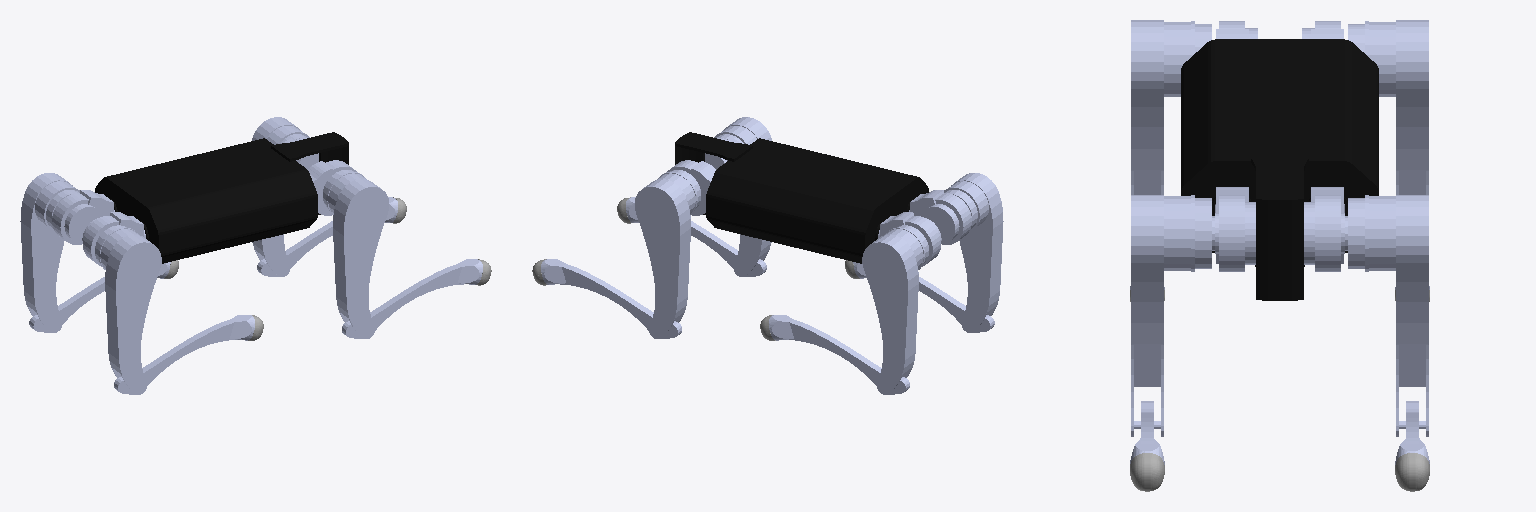
The robot description file, URDF, robot "dog":
<?xml version="1.0" encoding="utf-8"?>
<robot name="dog">
  <!-- ============ Materials ============ -->
  <material name="black"><color rgba="0.10196 0.10196 0.10196 1"/></material>
  <material name="silver"><color rgba="0.79216 0.81961 0.93333 1"/></material>
  <material name="gray"><color rgba="0.69804 0.69804 0.69804 1"/></material>
  <material name="white"><color rgba="1 1 1 1"/></material>

  <!-- ============ Base (主基座) ============ -->
  <link name="base">
    <inertial>
      <origin xyz="0.0063754 1.9125E-17 -5.2009E-18" rpy="0 0 0"/>
      <mass value="13.555"/>
      <inertia ixx="0.051785" ixy="-6.5573E-18" ixz="-6.0673E-18" 
               iyy="0.11159" iyz="2.7689E-18" izz="0.13989"/>
    </inertial>
    <visual>
      <origin xyz="0 0 0" rpy="0 0 0"/>
      <geometry>
        <mesh filename="../meshes/base.STL"/>
      </geometry>
      <material name="black"/>
    </visual>
    <collision>
      <origin xyz="0 0 0" rpy="0 0 0"/>
      <geometry>
        <box size="0.3062 0.0935 0.104"/>
      </geometry>
    </collision>
  </link>

  <!-- ============ ODIN1 (附加设备) ============
  <link name="ODIN1">
    <inertial>
      <origin xyz="0 0 0" rpy="0 0 0"/>
      <mass value="0.5"/>
      <inertia ixx="0.001" ixy="0" ixz="0" iyy="0.001" iyz="0" izz="0.001"/>
    </inertial>
    <visual>
      <origin xyz="0 0 0" rpy="0 0 0"/>
      <geometry>
        <mesh filename="../meshes/ODIN1.STL"/>
      </geometry>
      <material name="white"/>
    </visual>
    <collision>
      <origin xyz="0 0 0" rpy="0 0 0"/>
      <geometry>
        <box size="0.04 0.08 0.04"/>
      </geometry>
    </collision>
  </link>
  
  <joint name="ODIN_joint" type="fixed">
    <origin xyz="0.21725 0 0.1165" rpy="0 0 0"/>
    <parent link="base"/>
    <child link="ODIN1"/>
    <axis xyz="0 0 0"/>
  </joint> -->

  <!-- ==================== FL Leg ==================== -->
  <link name="FL_hip">
    <inertial>
      <origin xyz="-0.010697 -0.0033174 3.5324E-18" rpy="0 0 0"/>
      <mass value="0.33292"/>
      <inertia ixx="0.0001789" ixy="-1.0761E-05" ixz="-1.0819E-20" 
               iyy="0.0003417" iyz="1.4246E-20" izz="0.00025417"/>
    </inertial>
    <visual>
      <origin xyz="0 0 0" rpy="0 0 0"/>
      <geometry>
        <mesh filename="../meshes/FL_hip.STL"/>
      </geometry>
      <material name="silver"/>
    </visual>
    <collision>
      <origin xyz="0 0.045 0" rpy="1.5708 0 0"/>
      <geometry>
        <cylinder length="0.04" radius="0.04"/>
      </geometry>
    </collision>
  </link>
  
  <joint name="FL_hip_joint" type="revolute">
    <origin xyz="0.2145 0.05 0" rpy="0 0 0"/>
    <parent link="base"/>
    <child link="FL_hip"/>
    <axis xyz="1 0 0"/>
    <limit lower="-1.05" upper="1.05" effort="15.0" velocity="30.1"/>
  </joint>

  <link name="FL_thigh">
    <inertial>
      <origin xyz="-0.0069171 -0.014196 -0.040905" rpy="0 0 0"/>
      <mass value="1.5467"/>
      <inertia ixx="0.0064369" ixy="-0.00015187" ixz="0.00066183" 
               iyy="0.0062486" iyz="-0.00089812" izz="0.0014778"/>
    </inertial>
    <visual>
      <origin xyz="0 0 0" rpy="0 0 0"/>
      <geometry>
        <mesh filename="../meshes/FL_thigh.STL"/>
      </geometry>
      <material name="silver"/>
    </visual>
    <collision>
      <origin xyz="0 0 -0.075" rpy="0 1.5708 0"/>
      <geometry>
        <box size="0.15 0.0245 0.034"/>
      </geometry>
    </collision>
  </link>
  
  <joint name="FL_thigh_joint" type="revolute">
    <origin xyz="0 0.088 0" rpy="0 0 0"/>
    <parent link="FL_hip"/>
    <child link="FL_thigh"/>
    <axis xyz="0 1 0"/>
    <limit lower="-1.57" upper="3.49" effort="15.0" velocity="30.1"/>
  </joint>

  <link name="FL_calf">
    <inertial>
      <origin xyz="0.012446 6.1697E-10 -0.11689" rpy="0 0 0"/>
      <mass value="0.1266"/>
      <inertia ixx="0.00089879" ixy="-1.6714E-11" ixz="-3.7677E-05" 
               iyy="0.0009089" iyz="4.713E-12" izz="1.8028E-05"/>
    </inertial>
    <visual>
      <origin xyz="0 0 0" rpy="0 0 0"/>
      <geometry>
        <mesh filename="../meshes/FL_calf.STL"/>
      </geometry>
      <material name="silver"/>
    </visual>
    <collision>
      <origin xyz="0 0 -0.07" rpy="0 1.5708 0"/>
      <geometry>
        <box size="0.14 0.016 0.016"/>
      </geometry>
    </collision>
  </link>
  
  <joint name="FL_calf_joint" type="revolute">
    <origin xyz="0 0 -0.22" rpy="0 0 0"/>
    <parent link="FL_thigh"/>
    <child link="FL_calf"/>
    <axis xyz="0 1 0"/>
    <limit lower="-2.72" upper="-0.84" effort="30.0" velocity="22.07"/>
  </joint>

  <link name="FL_foot">
    <inertial>
      <origin xyz="-1.5361E-11 9.9171E-11 9.5637E-11" rpy="0 0 0"/>
      <mass value="0.03385"/>
      <inertia ixx="4.3616E-06" ixy="1.5524E-12" ixz="-9.2947E-07" 
               iyy="4.8375E-06" iyz="-7.5217E-13" izz="5.3891E-06"/>
    </inertial>
    <visual>
      <origin xyz="0 0 0" rpy="0 0 0"/>
      <geometry>
        <mesh filename="../meshes/FL_foot.STL"/>
      </geometry>
      <material name="gray"/>
    </visual>
    <collision>
      <origin xyz="0 0 0" rpy="0 0 0"/>
      <geometry>
        <sphere radius="0.02"/>
      </geometry>
    </collision>
  </link>
  
  <joint name="FL_foot_joint" type="fixed">
    <origin xyz="0 0 -0.22849" rpy="0 0 0"/>
    <parent link="FL_calf"/>
    <child link="FL_foot"/>
    <axis xyz="0 0 0"/>
  </joint>

  <!-- ==================== FR Leg ==================== -->
  <link name="FR_hip">
    <inertial>
      <origin xyz="-0.010697 0.0033174 -5.3064E-18" rpy="0 0 0"/>
      <mass value="0.33292"/>
      <inertia ixx="0.0001789" ixy="1.0761E-05" ixz="2.9382E-20" 
               iyy="0.0003417" iyz="1.7422E-20" izz="0.00025417"/>
    </inertial>
    <visual>
      <origin xyz="0 0 0" rpy="0 0 0"/>
      <geometry>
        <mesh filename="../meshes/FR_hip.STL"/>
      </geometry>
      <material name="silver"/>
    </visual>
    <collision>
      <origin xyz="0 -0.045 0" rpy="1.5708 0 0"/>
      <geometry>
        <cylinder length="0.04" radius="0.04"/>
      </geometry>
    </collision>
  </link>
  
  <joint name="FR_hip_joint" type="revolute">
    <origin xyz="0.2145 -0.05 0" rpy="0 0 0"/>
    <parent link="base"/>
    <child link="FR_hip"/>
    <axis xyz="1 0 0"/>
    <limit lower="-1.05" upper="1.05" effort="15.0" velocity="30.1"/>
  </joint>

  <link name="FR_thigh">
    <inertial>
      <origin xyz="-0.0069171 0.014196 -0.040905" rpy="0 0 0"/>
      <mass value="1.5467"/>
      <inertia ixx="0.0064369" ixy="0.00015187" ixz="0.00066183" 
               iyy="0.0062486" iyz="0.00089812" izz="0.0014778"/>
    </inertial>
    <visual>
      <origin xyz="0 0 0" rpy="0 0 0"/>
      <geometry>
        <mesh filename="../meshes/FR_thigh.STL"/>
      </geometry>
      <material name="silver"/>
    </visual>
    <collision>
      <origin xyz="0 0 -0.075" rpy="0 1.5708 0"/>
      <geometry>
        <box size="0.15 0.0245 0.034"/>
      </geometry>
    </collision>
  </link>
  
  <joint name="FR_thigh_joint" type="revolute">
    <origin xyz="0 -0.088 0" rpy="0 0 0"/>
    <parent link="FR_hip"/>
    <child link="FR_thigh"/>
    <axis xyz="0 1 0"/>
    <limit lower="-1.57" upper="3.49" effort="15.0" velocity="30.1"/>
  </joint>

  <link name="FR_calf">
    <inertial>
      <origin xyz="0.012446 6.1697E-10 -0.11689" rpy="0 0 0"/>
      <mass value="0.1266"/>
      <inertia ixx="0.00089879" ixy="-1.6714E-11" ixz="-3.7677E-05" 
               iyy="0.0009089" iyz="4.713E-12" izz="1.8028E-05"/>
    </inertial>
    <visual>
      <origin xyz="0 0 0" rpy="0 0 0"/>
      <geometry>
        <mesh filename="../meshes/FR_calf.STL"/>
      </geometry>
      <material name="silver"/>
    </visual>
    <collision>
      <origin xyz="0 0 -0.07" rpy="0 1.5708 0"/>
      <geometry>
        <box size="0.14 0.016 0.016"/>
      </geometry>
    </collision>
  </link>
  
  <joint name="FR_calf_joint" type="revolute">
    <origin xyz="0 0 -0.22" rpy="0 0 0"/>
    <parent link="FR_thigh"/>
    <child link="FR_calf"/>
    <axis xyz="0 1 0"/>
    <limit lower="-2.72" upper="-0.84" effort="30.0" velocity="22.07"/>
  </joint>

  <link name="FR_foot">
    <inertial>
      <origin xyz="-6.8027E-11 1.2695E-10 2.7911E-11" rpy="0 0 0"/>
      <mass value="0.03385"/>
      <inertia ixx="4.3616E-06" ixy="1.5049E-12" ixz="-9.2947E-07" 
               iyy="4.8375E-06" iyz="-7.2331E-13" izz="5.3891E-06"/>
    </inertial>
    <visual>
      <origin xyz="0 0 0" rpy="0 0 0"/>
      <geometry>
        <mesh filename="../meshes/FR_foot.STL"/>
      </geometry>
      <material name="gray"/>
    </visual>
    <collision>
      <origin xyz="0 0 0" rpy="0 0 0"/>
      <geometry>
        <sphere radius="0.02"/>
      </geometry>
    </collision>
  </link>
  
  <joint name="FR_foot_joint" type="fixed">
    <origin xyz="0 0 -0.22849" rpy="0 0 0"/>
    <parent link="FR_calf"/>
    <child link="FR_foot"/>
    <axis xyz="0 0 0"/>
  </joint>

  <!-- ==================== RR Leg ==================== -->
  <link name="RR_hip">
    <inertial>
      <origin xyz="0.010697 0.0033174 6.5589E-19" rpy="0 0 0"/>
      <mass value="0.33292"/>
      <inertia ixx="0.0001789" ixy="-1.0761E-05" ixz="3.9204E-21" 
               iyy="0.0003417" iyz="-7.4276E-21" izz="0.00025417"/>
    </inertial>
    <visual>
      <origin xyz="0 0 0" rpy="0 0 0"/>
      <geometry>
        <mesh filename="../meshes/RR_hip.STL"/>
      </geometry>
      <material name="silver"/>
    </visual>
    <collision>
      <origin xyz="0 -0.045 0" rpy="1.5708 0 0"/>
      <geometry>
        <cylinder length="0.04" radius="0.04"/>
      </geometry>
    </collision>
  </link>
  
  <joint name="RR_hip_joint" type="revolute">
    <origin xyz="-0.2145 -0.05 0" rpy="0 0 0"/>
    <parent link="base"/>
    <child link="RR_hip"/>
    <axis xyz="1 0 0"/>
    <limit lower="-1.05" upper="1.05" effort="15.0" velocity="30.1"/>
  </joint>

  <link name="RR_thigh">
    <inertial>
      <origin xyz="-0.0069171 0.014196 -0.040905" rpy="0 0 0"/>
      <mass value="1.5467"/>
      <inertia ixx="0.0064369" ixy="0.00015187" ixz="0.00066183" 
               iyy="0.0062486" iyz="0.00089812" izz="0.0014778"/>
    </inertial>
    <visual>
      <origin xyz="0 0 0" rpy="0 0 0"/>
      <geometry>
        <mesh filename="../meshes/RR_thigh.STL"/>
      </geometry>
      <material name="silver"/>
    </visual>
    <collision>
      <origin xyz="0 0 -0.075" rpy="0 1.5708 0"/>
      <geometry>
        <box size="0.15 0.0245 0.034"/>
      </geometry>
    </collision>
  </link>
  
  <joint name="RR_thigh_joint" type="revolute">
    <origin xyz="0 -0.088 0" rpy="0 0 0"/>
    <parent link="RR_hip"/>
    <child link="RR_thigh"/>
    <axis xyz="0 1 0"/>
    <limit lower="-1.57" upper="3.49" effort="15.0" velocity="30.1"/>
  </joint>

  <link name="RR_calf">
    <inertial>
      <origin xyz="0.012446 6.1697E-10 -0.11689" rpy="0 0 0"/>
      <mass value="0.1266"/>
      <inertia ixx="0.00089879" ixy="-1.6714E-11" ixz="-3.7677E-05" 
               iyy="0.0009089" iyz="4.713E-12" izz="1.8028E-05"/>
    </inertial>
    <visual>
      <origin xyz="0 0 0" rpy="0 0 0"/>
      <geometry>
        <mesh filename="../meshes/RR_calf.STL"/>
      </geometry>
      <material name="silver"/>
    </visual>
    <collision>
      <origin xyz="0 0 -0.07" rpy="0 1.5708 0"/>
      <geometry>
        <box size="0.14 0.016 0.016"/>
      </geometry>
    </collision>
  </link>
  
  <joint name="RR_calf_joint" type="revolute">
    <origin xyz="0 0 -0.22" rpy="0 0 0"/>
    <parent link="RR_thigh"/>
    <child link="RR_calf"/>
    <axis xyz="0 1 0"/>
    <limit lower="-2.72" upper="-0.84" effort="30.0" velocity="22.07"/>
  </joint>

  <link name="RR_foot">
    <inertial>
      <origin xyz="-6.8027E-11 1.2695E-10 2.7911E-11" rpy="0 0 0"/>
      <mass value="0.03385"/>
      <inertia ixx="4.3616E-06" ixy="1.5049E-12" ixz="-9.2947E-07" 
               iyy="4.8375E-06" iyz="-7.2331E-13" izz="5.3891E-06"/>
    </inertial>
    <visual>
      <origin xyz="0 0 0" rpy="0 0 0"/>
      <geometry>
        <mesh filename="../meshes/RR_foot.STL"/>
      </geometry>
      <material name="gray"/>
    </visual>
    <collision>
      <origin xyz="0 0 0" rpy="0 0 0"/>
      <geometry>
        <sphere radius="0.02"/>
      </geometry>
    </collision>
  </link>
  
  <joint name="RR_foot_joint" type="fixed">
    <origin xyz="0 0 -0.228485817833339" rpy="0 0 0"/>
    <parent link="RR_calf"/>
    <child link="RR_foot"/>
    <axis xyz="0 0 0"/>
  </joint>

  <!-- ==================== RL Leg ==================== -->
  <link name="RL_hip">
    <inertial>
      <origin xyz="0.010697 -0.0033174 3.7675E-19" rpy="0 0 0"/>
      <mass value="0.33292"/>
      <inertia ixx="0.0001789" ixy="1.0761E-05" ixz="-6.6841E-21" 
               iyy="0.0003417" iyz="-2.6358E-21" izz="0.00025417"/>
    </inertial>
    <visual>
      <origin xyz="0 0 0" rpy="0 0 0"/>
      <geometry>
        <mesh filename="../meshes/RL_hip.STL"/>
      </geometry>
      <material name="silver"/>
    </visual>
    <collision>
      <origin xyz="0 0.045 0" rpy="1.5708 0 0"/>
      <geometry>
        <cylinder length="0.04" radius="0.04"/>
      </geometry>
    </collision>
  </link>
  
  <joint name="RL_hip_joint" type="revolute">
    <origin xyz="-0.2145 0.05 0" rpy="0 0 0"/>
    <parent link="base"/>
    <child link="RL_hip"/>
    <axis xyz="1 0 0"/>
    <limit lower="-1.05" upper="1.05" effort="15.0" velocity="30.1"/>
  </joint>

  <link name="RL_thigh">
    <inertial>
      <origin xyz="-0.0069171 -0.014196 -0.040905" rpy="0 0 0"/>
      <mass value="1.5467"/>
      <inertia ixx="0.0064369" ixy="-0.00015187" ixz="0.00066183" 
               iyy="0.0062486" iyz="-0.00089812" izz="0.0014778"/>
    </inertial>
    <visual>
      <origin xyz="0 0 0" rpy="0 0 0"/>
      <geometry>
        <mesh filename="../meshes/RL_thigh.STL"/>
      </geometry>
      <material name="silver"/>
    </visual>
    <collision>
      <origin xyz="0 0 -0.075" rpy="0 1.5708 0"/>
      <geometry>
        <box size="0.15 0.0245 0.034"/>
      </geometry>
    </collision>
  </link>
  
  <joint name="RL_thigh_joint" type="revolute">
    <origin xyz="0 0.088 0" rpy="0 0 0"/>
    <parent link="RL_hip"/>
    <child link="RL_thigh"/>
    <axis xyz="0 1 0"/>
    <limit lower="-1.57" upper="3.49" effort="15.0" velocity="30.1"/>
  </joint>

  <link name="RL_calf">
    <inertial>
      <origin xyz="0.012446 6.1697E-10 -0.11689" rpy="0 0 0"/>
      <mass value="0.1266"/>
      <inertia ixx="0.00089879" ixy="-1.6714E-11" ixz="-3.7677E-05" 
               iyy="0.0009089" iyz="4.713E-12" izz="1.8028E-05"/>
    </inertial>
    <visual>
      <origin xyz="0 0 0" rpy="0 0 0"/>
      <geometry>
        <mesh filename="../meshes/RL_calf.STL"/>
      </geometry>
      <material name="silver"/>
    </visual>
    <collision>
      <origin xyz="0 0 -0.07" rpy="0 1.5708 0"/>
      <geometry>
        <box size="0.14 0.016 0.016"/>
      </geometry>
    </collision>
  </link>
  
  <joint name="RL_calf_joint" type="revolute">
    <origin xyz="0 0 -0.22" rpy="0 0 0"/>
    <parent link="RL_thigh"/>
    <child link="RL_calf"/>
    <axis xyz="0 1 0"/>
    <limit lower="-2.72" upper="-0.84" effort="30.0" velocity="22.07"/>
  </joint>

  <link name="RL_foot">
    <inertial>
      <origin xyz="-5.3573E-06 8.9644E-11 0" rpy="0 0 0"/>
      <mass value="0.03385"/>
      <inertia ixx="4.3616E-06" ixy="1.5512E-12" ixz="-9.2947E-07" 
               iyy="4.8375E-06" iyz="-7.5287E-13" izz="5.3891E-06"/>
    </inertial>
    <visual>
      <origin xyz="0 0 0" rpy="0 0 0"/>
      <geometry>
        <mesh filename="../meshes/RR_foot.STL"/>
      </geometry>
      <material name="gray"/>
    </visual>
    <collision>
      <origin xyz="0 0 0" rpy="0 0 0"/>
      <geometry>
        <sphere radius="0.02"/>
      </geometry>
    </collision>
  </link>
  
  <joint name="RL_foot_joint" type="fixed">
    <origin xyz="0 0 -0.22849" rpy="0 0 0"/>
    <parent link="RL_calf"/>
    <child link="RL_foot"/>
    <axis xyz="0 0 0"/>
  </joint>

</robot>

--- Facts derived from the render (not from the file) ---
3 views of the same robot in one strip: view 1: azimuth 30°, elevation 25°; view 2: azimuth 150°, elevation 25°; view 3: azimuth 270°, elevation 25° (orthographic).
Robot: dog — 17 links, 16 joints (12 revolute, 4 fixed); root link base; default pose: joints at zero except 4 at the middle of their limits (FL_calf_joint = -1.78, FR_calf_joint = -1.78, RR_calf_joint = -1.78, RL_calf_joint = -1.78).
Visible links, largest first — view 1: base, RR_thigh, FR_thigh, RL_thigh, FR_calf, RR_calf, RL_hip, FL_thigh, FL_calf, RR_hip, RL_calf, FR_hip; view 2: base, RL_thigh, FL_thigh, RR_thigh, FL_calf, RL_calf, RR_hip, FR_thigh, FR_calf, RL_hip, RR_calf, FL_hip; view 3: base, FL_thigh, FR_thigh, RR_thigh, RL_thigh, FL_hip, FR_hip, FL_foot, FR_foot, FL_calf, FR_calf, RR_hip (+1 smaller).
Boxes of the visible links, x1=… form: base: x1=95, y1=132, x2=348, y2=263; RR_thigh: x1=95, y1=225, x2=161, y2=394; FR_thigh: x1=323, y1=170, x2=388, y2=338; RL_thigh: x1=20, y1=173, x2=79, y2=332; FR_calf: x1=342, y1=259, x2=482, y2=338; RR_calf: x1=114, y1=315, x2=254, y2=394; RL_hip: x1=52, y1=190, x2=114, y2=244; FL_thigh: x1=252, y1=117, x2=309, y2=276; FL_calf: x1=257, y1=197, x2=397, y2=276; RR_hip: x1=82, y1=212, x2=145, y2=266; RL_calf: x1=29, y1=262, x2=170, y2=332; FR_hip: x1=308, y1=160, x2=356, y2=215; base: x1=675, y1=132, x2=928, y2=263; RL_thigh: x1=862, y1=225, x2=928, y2=394; FL_thigh: x1=635, y1=170, x2=700, y2=338; RR_thigh: x1=944, y1=173, x2=1003, y2=332; FL_calf: x1=541, y1=259, x2=681, y2=338; RL_calf: x1=769, y1=315, x2=909, y2=394; RR_hip: x1=909, y1=190, x2=971, y2=244; FR_thigh: x1=714, y1=117, x2=771, y2=276; FR_calf: x1=626, y1=197, x2=766, y2=276; RL_hip: x1=878, y1=212, x2=941, y2=266; RR_calf: x1=853, y1=262, x2=994, y2=332; FL_hip: x1=667, y1=160, x2=715, y2=215; base: x1=1181, y1=39, x2=1378, y2=300; FL_thigh: x1=1345, y1=195, x2=1428, y2=436; FR_thigh: x1=1131, y1=195, x2=1214, y2=436; RR_thigh: x1=1131, y1=20, x2=1211, y2=194; RL_thigh: x1=1348, y1=20, x2=1428, y2=194; FL_hip: x1=1304, y1=187, x2=1344, y2=271; FR_hip: x1=1215, y1=187, x2=1255, y2=271; FL_foot: x1=1395, y1=453, x2=1429, y2=491; FR_foot: x1=1130, y1=453, x2=1164, y2=491; FL_calf: x1=1395, y1=401, x2=1429, y2=464; FR_calf: x1=1130, y1=401, x2=1164, y2=464; RR_hip: x1=1216, y1=21, x2=1257, y2=38.
Bounding box of the posed robot: 0.7145 × 0.312 × 0.2946 m (x, y, z).
17 mesh visuals loaded from 16 distinct referenced files (16 binary STL).
